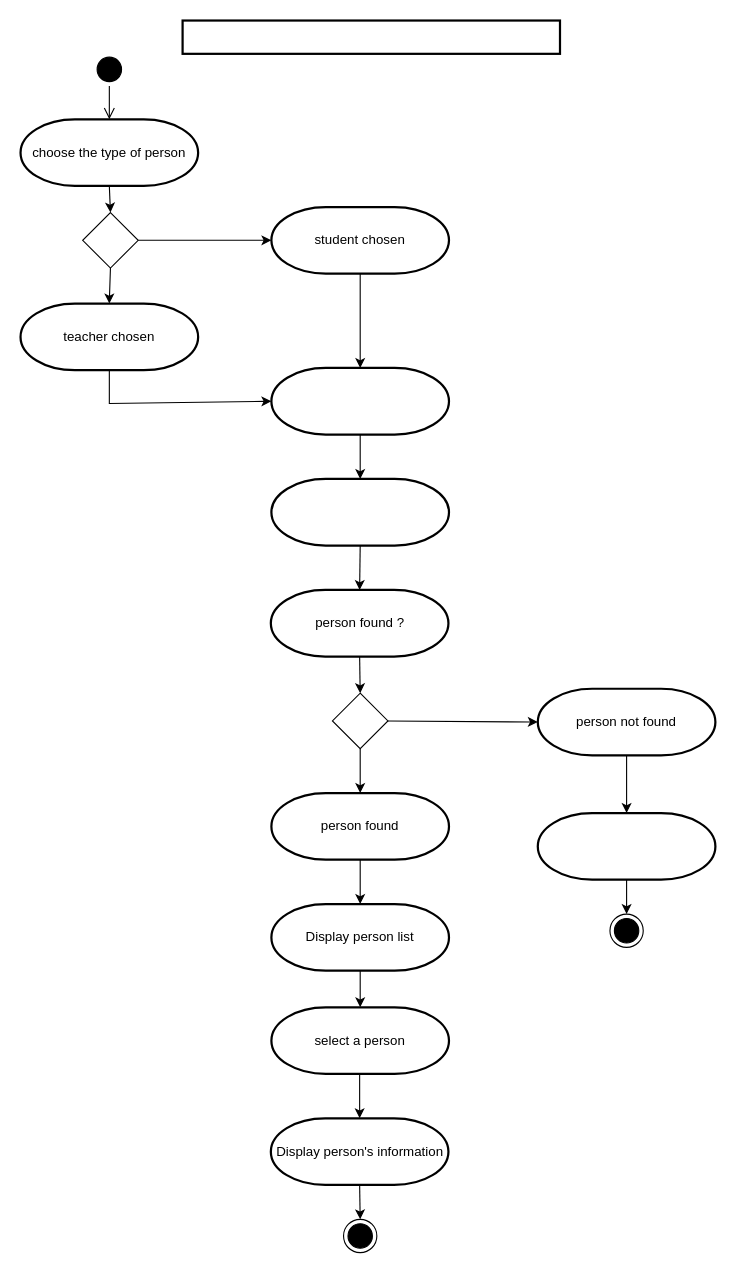
The diagram is 735 pixels wide and 1272 high, and some of its shapes have lost their labels. Each missing label, with the centre of its shape:
"Activity Diagram : Research a student/a teacher" goes at (x=371, y=36).
"Display message person not found" goes at (x=626, y=845).
"Enter the search criterion" goes at (x=360, y=400).
"Start the search" goes at (x=360, y=511).
